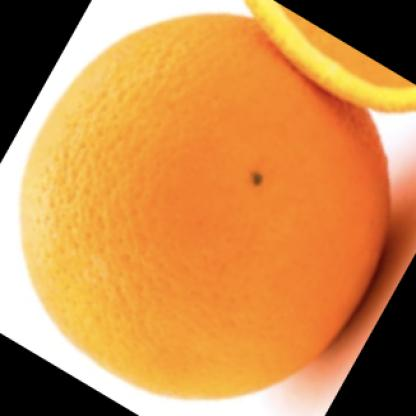fresh: (21, 13, 392, 401)
